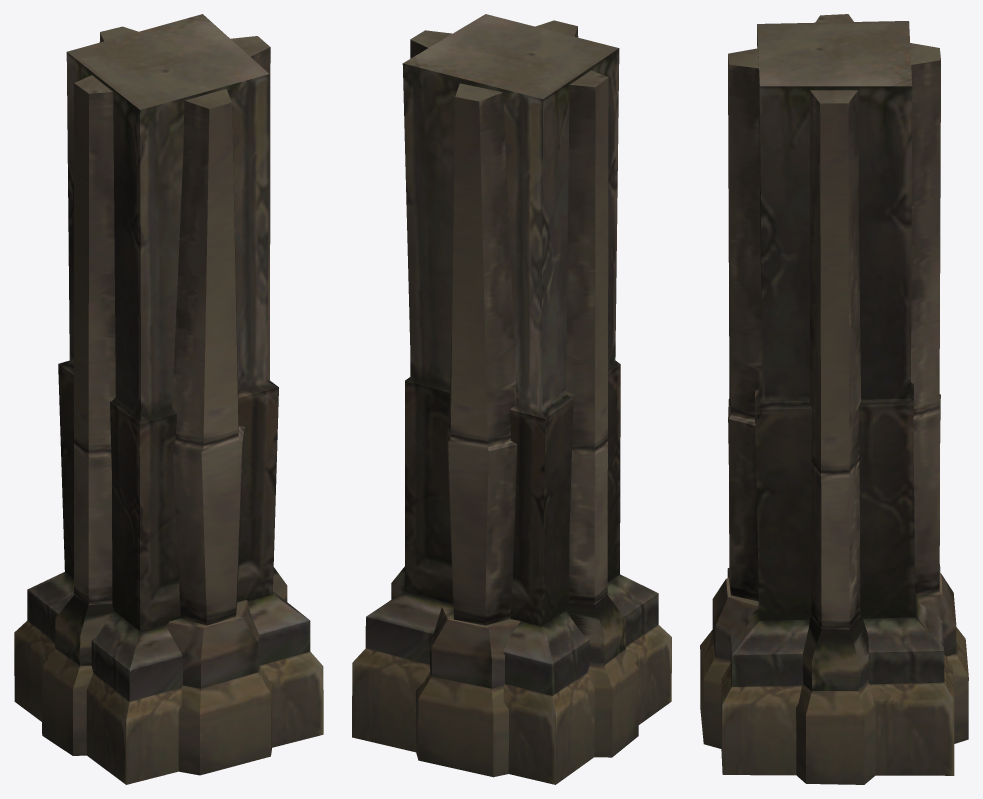
File: hazz_gq_03.FBX
3 views of the same model, side by side, from view 1: azimuth 30°, elevation 25°; view 2: azimuth 150°, elevation 25°; view 3: azimuth 270°, elevation 25° (orthographic). The views are drawn at different scales.
Parts seen in each view (by area): view 1: hazz_gq_03; view 2: hazz_gq_03; view 3: hazz_gq_03.
Boxes of the visible parts, <box> form: hazz_gq_03: <box>14,14,323,784</box>; hazz_gq_03: <box>352,14,671,784</box>; hazz_gq_03: <box>700,14,968,784</box>.
Bounding box in the file's own units: 138 × 376 × 136.
